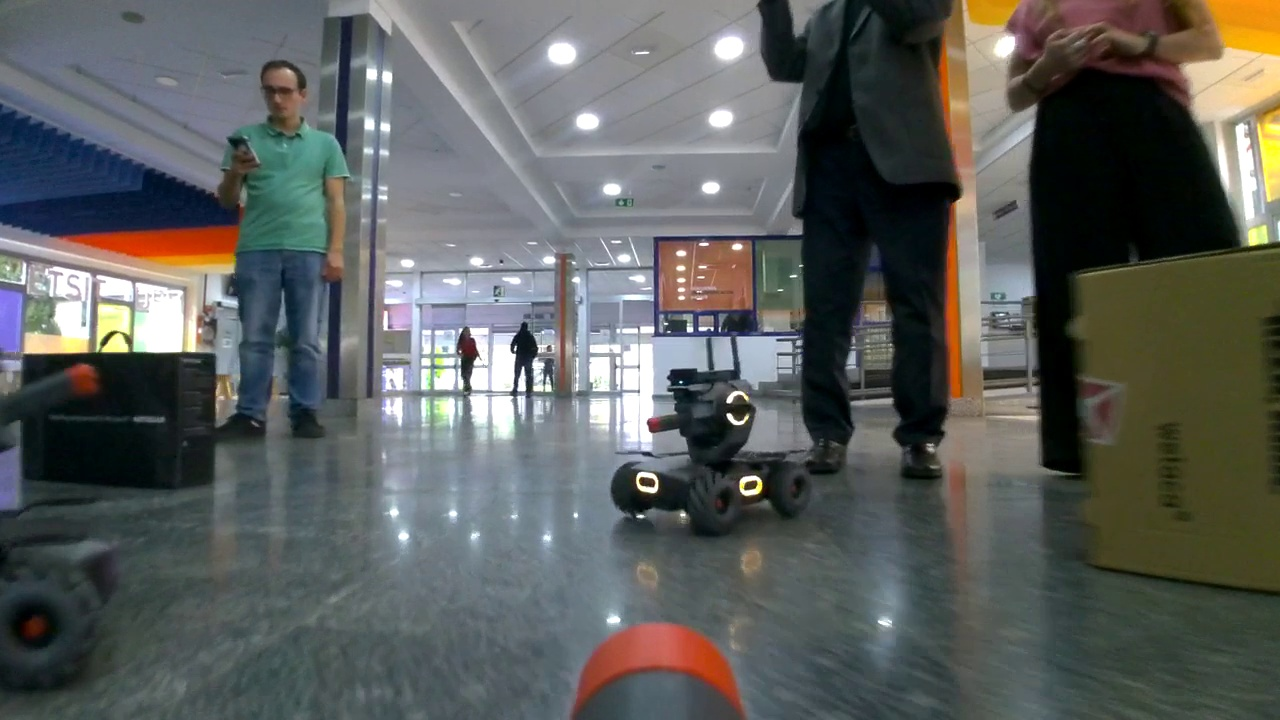robot: (608, 360, 815, 539)
